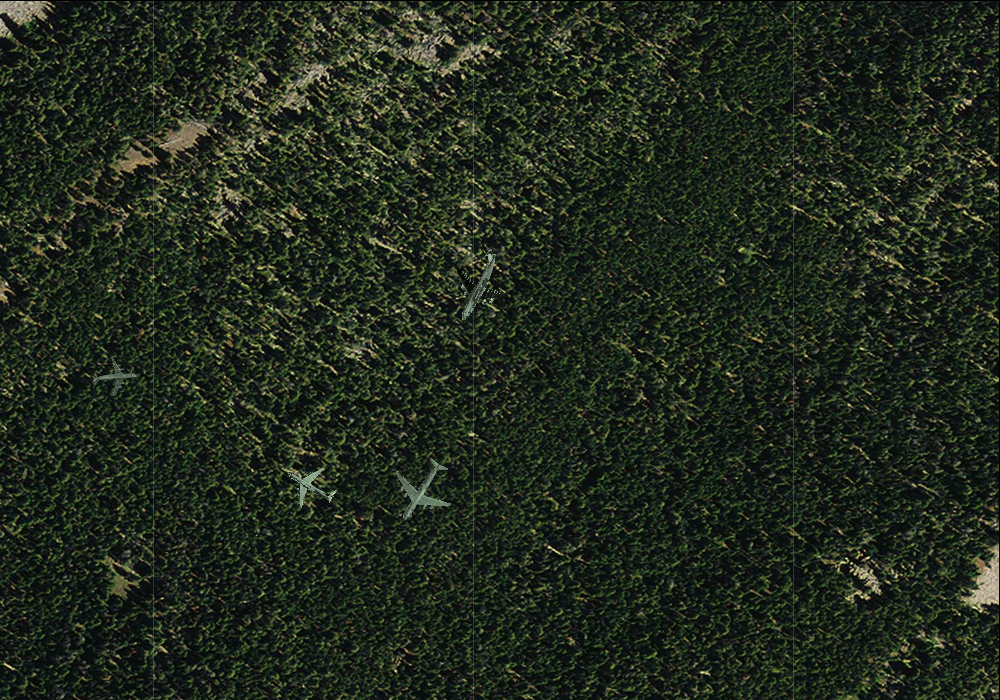plane: (428, 232, 527, 335), (375, 444, 467, 538), (275, 450, 346, 520), (89, 355, 139, 401)
